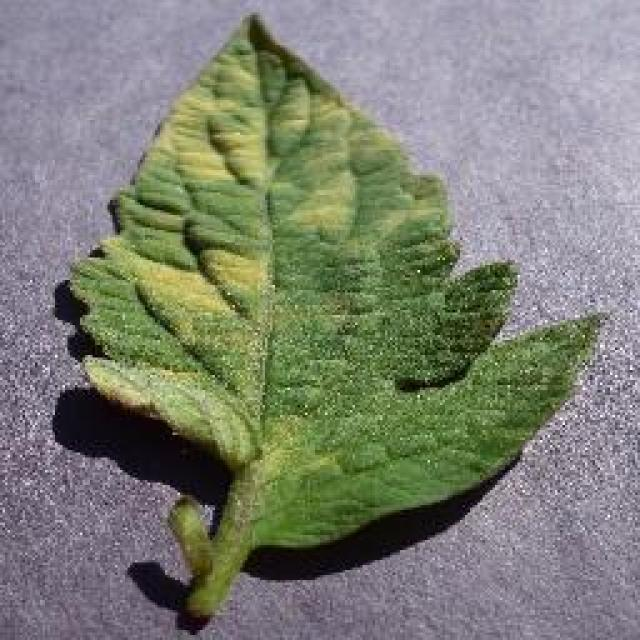Tomato mold leaf: (71, 14, 608, 548)
